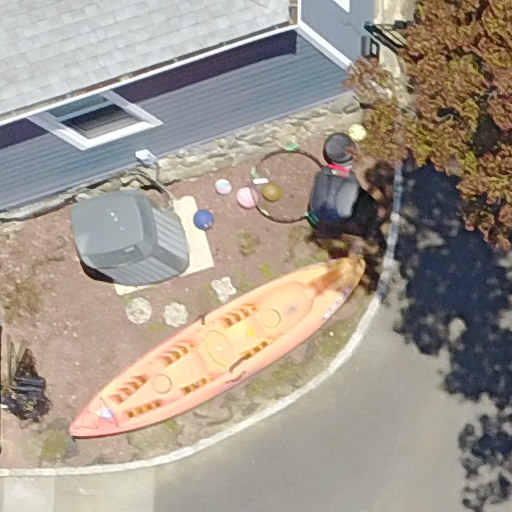kayak: (28, 218, 398, 461)
toy: (30, 220, 400, 463)
trash bin: (301, 164, 398, 247)
